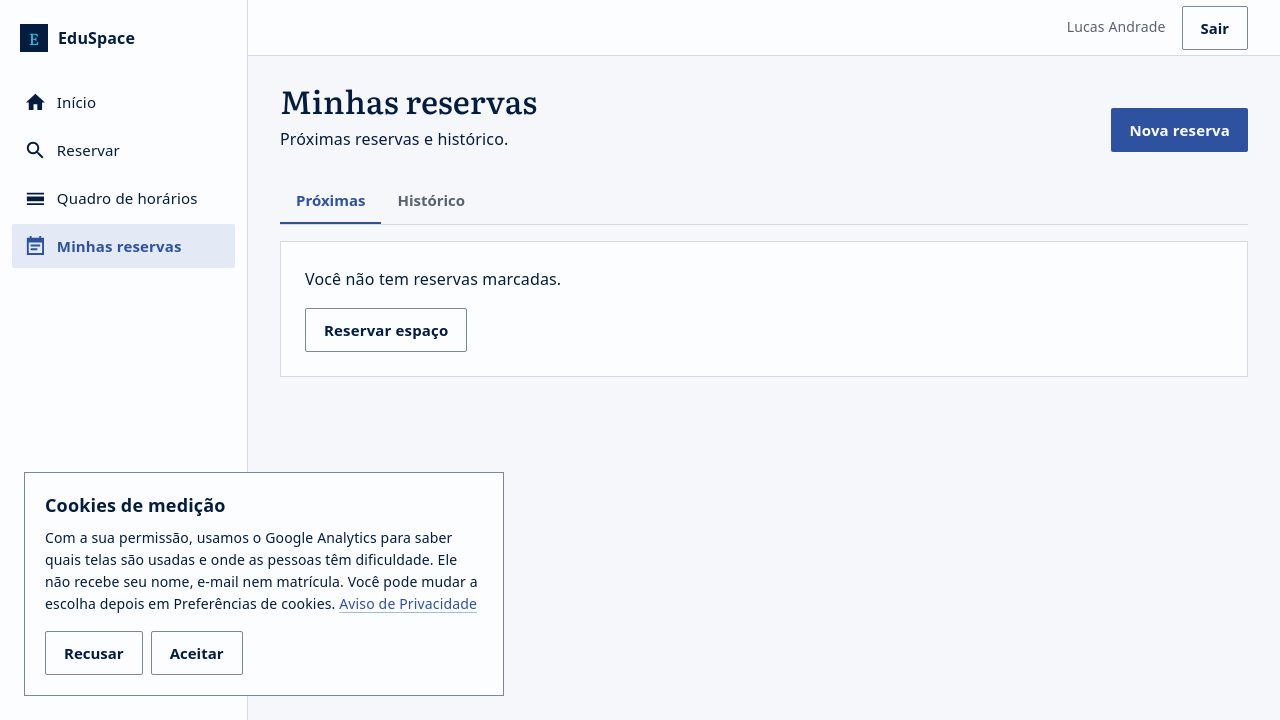
it: my reservations › shows past and cancelled reservations in the history tab
Expected: the text "Você não tem reservas marcadas." is shown, [305, 268, 561, 290]
Click the tab "Histórico" at x=431, y=200, box [381, 176, 481, 224]
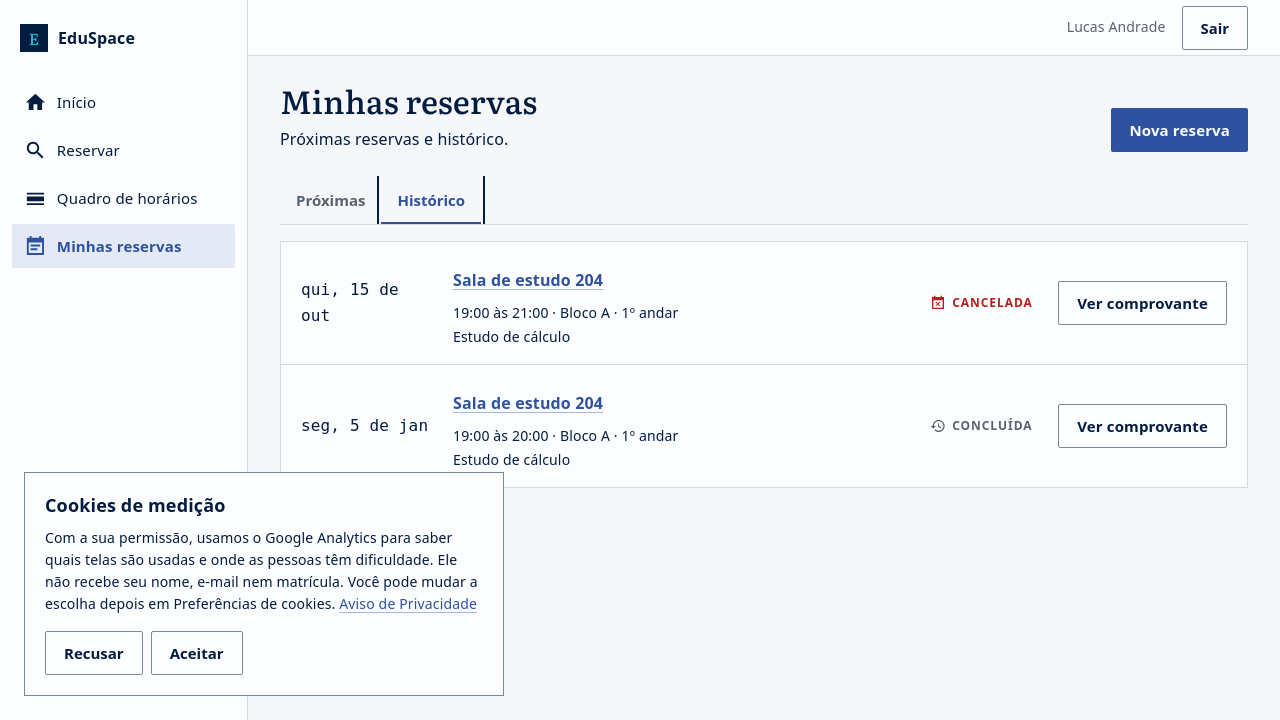
Now the text "Cancelada" is shown, box [952, 293, 1033, 313]
Now the text "Concluída" is shown, box [952, 416, 1032, 436]
